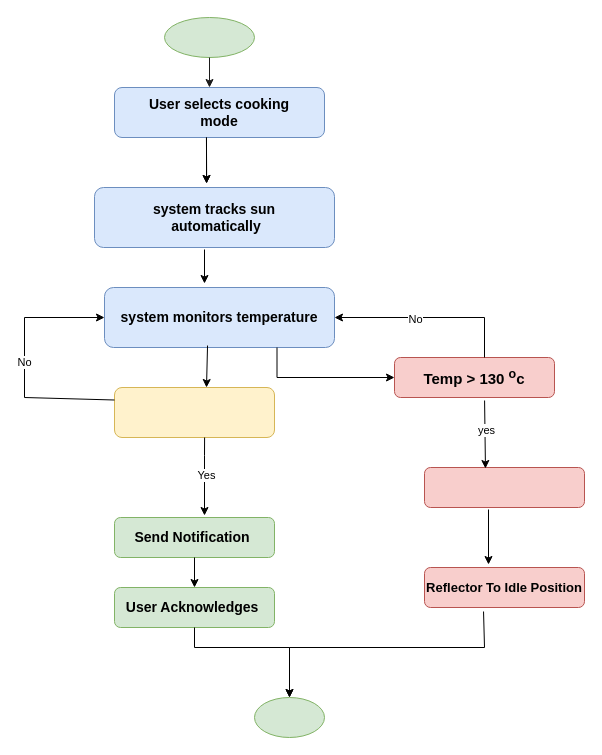
Image size: 602x755. Some labels were removed from this diagram. The shapes that lost their labels are listed below. From the top down, each one's centre as x and y in pixels, then its label:
At point (209, 37): "Start".
At point (194, 412): "Target temp reached".
At point (504, 487): "Engage Safety Mode".
At point (289, 717): "End".
